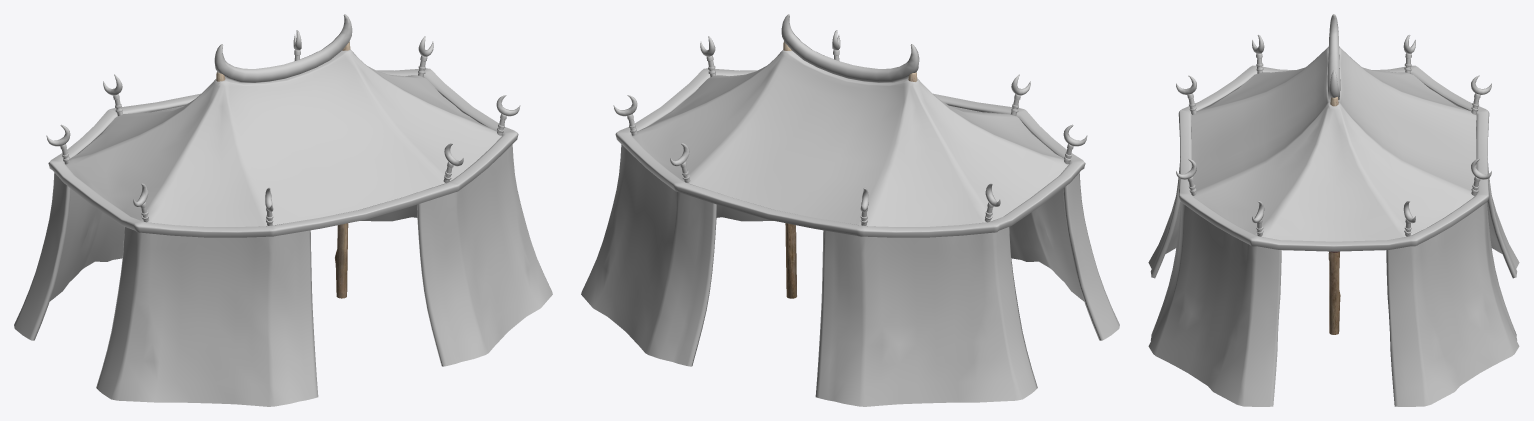
The picture shows the model from 3 angles, left to right: view 1: azimuth 30°, elevation 25°; view 2: azimuth 150°, elevation 25°; view 3: azimuth 270°, elevation 25°; orthographic projection. The views are drawn at different scales.
Parts seen in each view (by area): view 1: SM_Moon_Garou_Tent_02v1_LOD0; view 2: SM_Moon_Garou_Tent_02v1_LOD0; view 3: SM_Moon_Garou_Tent_02v1_LOD0.
Boxes of the visible parts, left/top/right/bottom form: SM_Moon_Garou_Tent_02v1_LOD0: left=14, top=14, right=552, bottom=406; SM_Moon_Garou_Tent_02v1_LOD0: left=581, top=14, right=1119, bottom=406; SM_Moon_Garou_Tent_02v1_LOD0: left=1148, top=14, right=1519, bottom=406.
Size of the model in its own units: 15.58 by 9.52 by 12.07.
